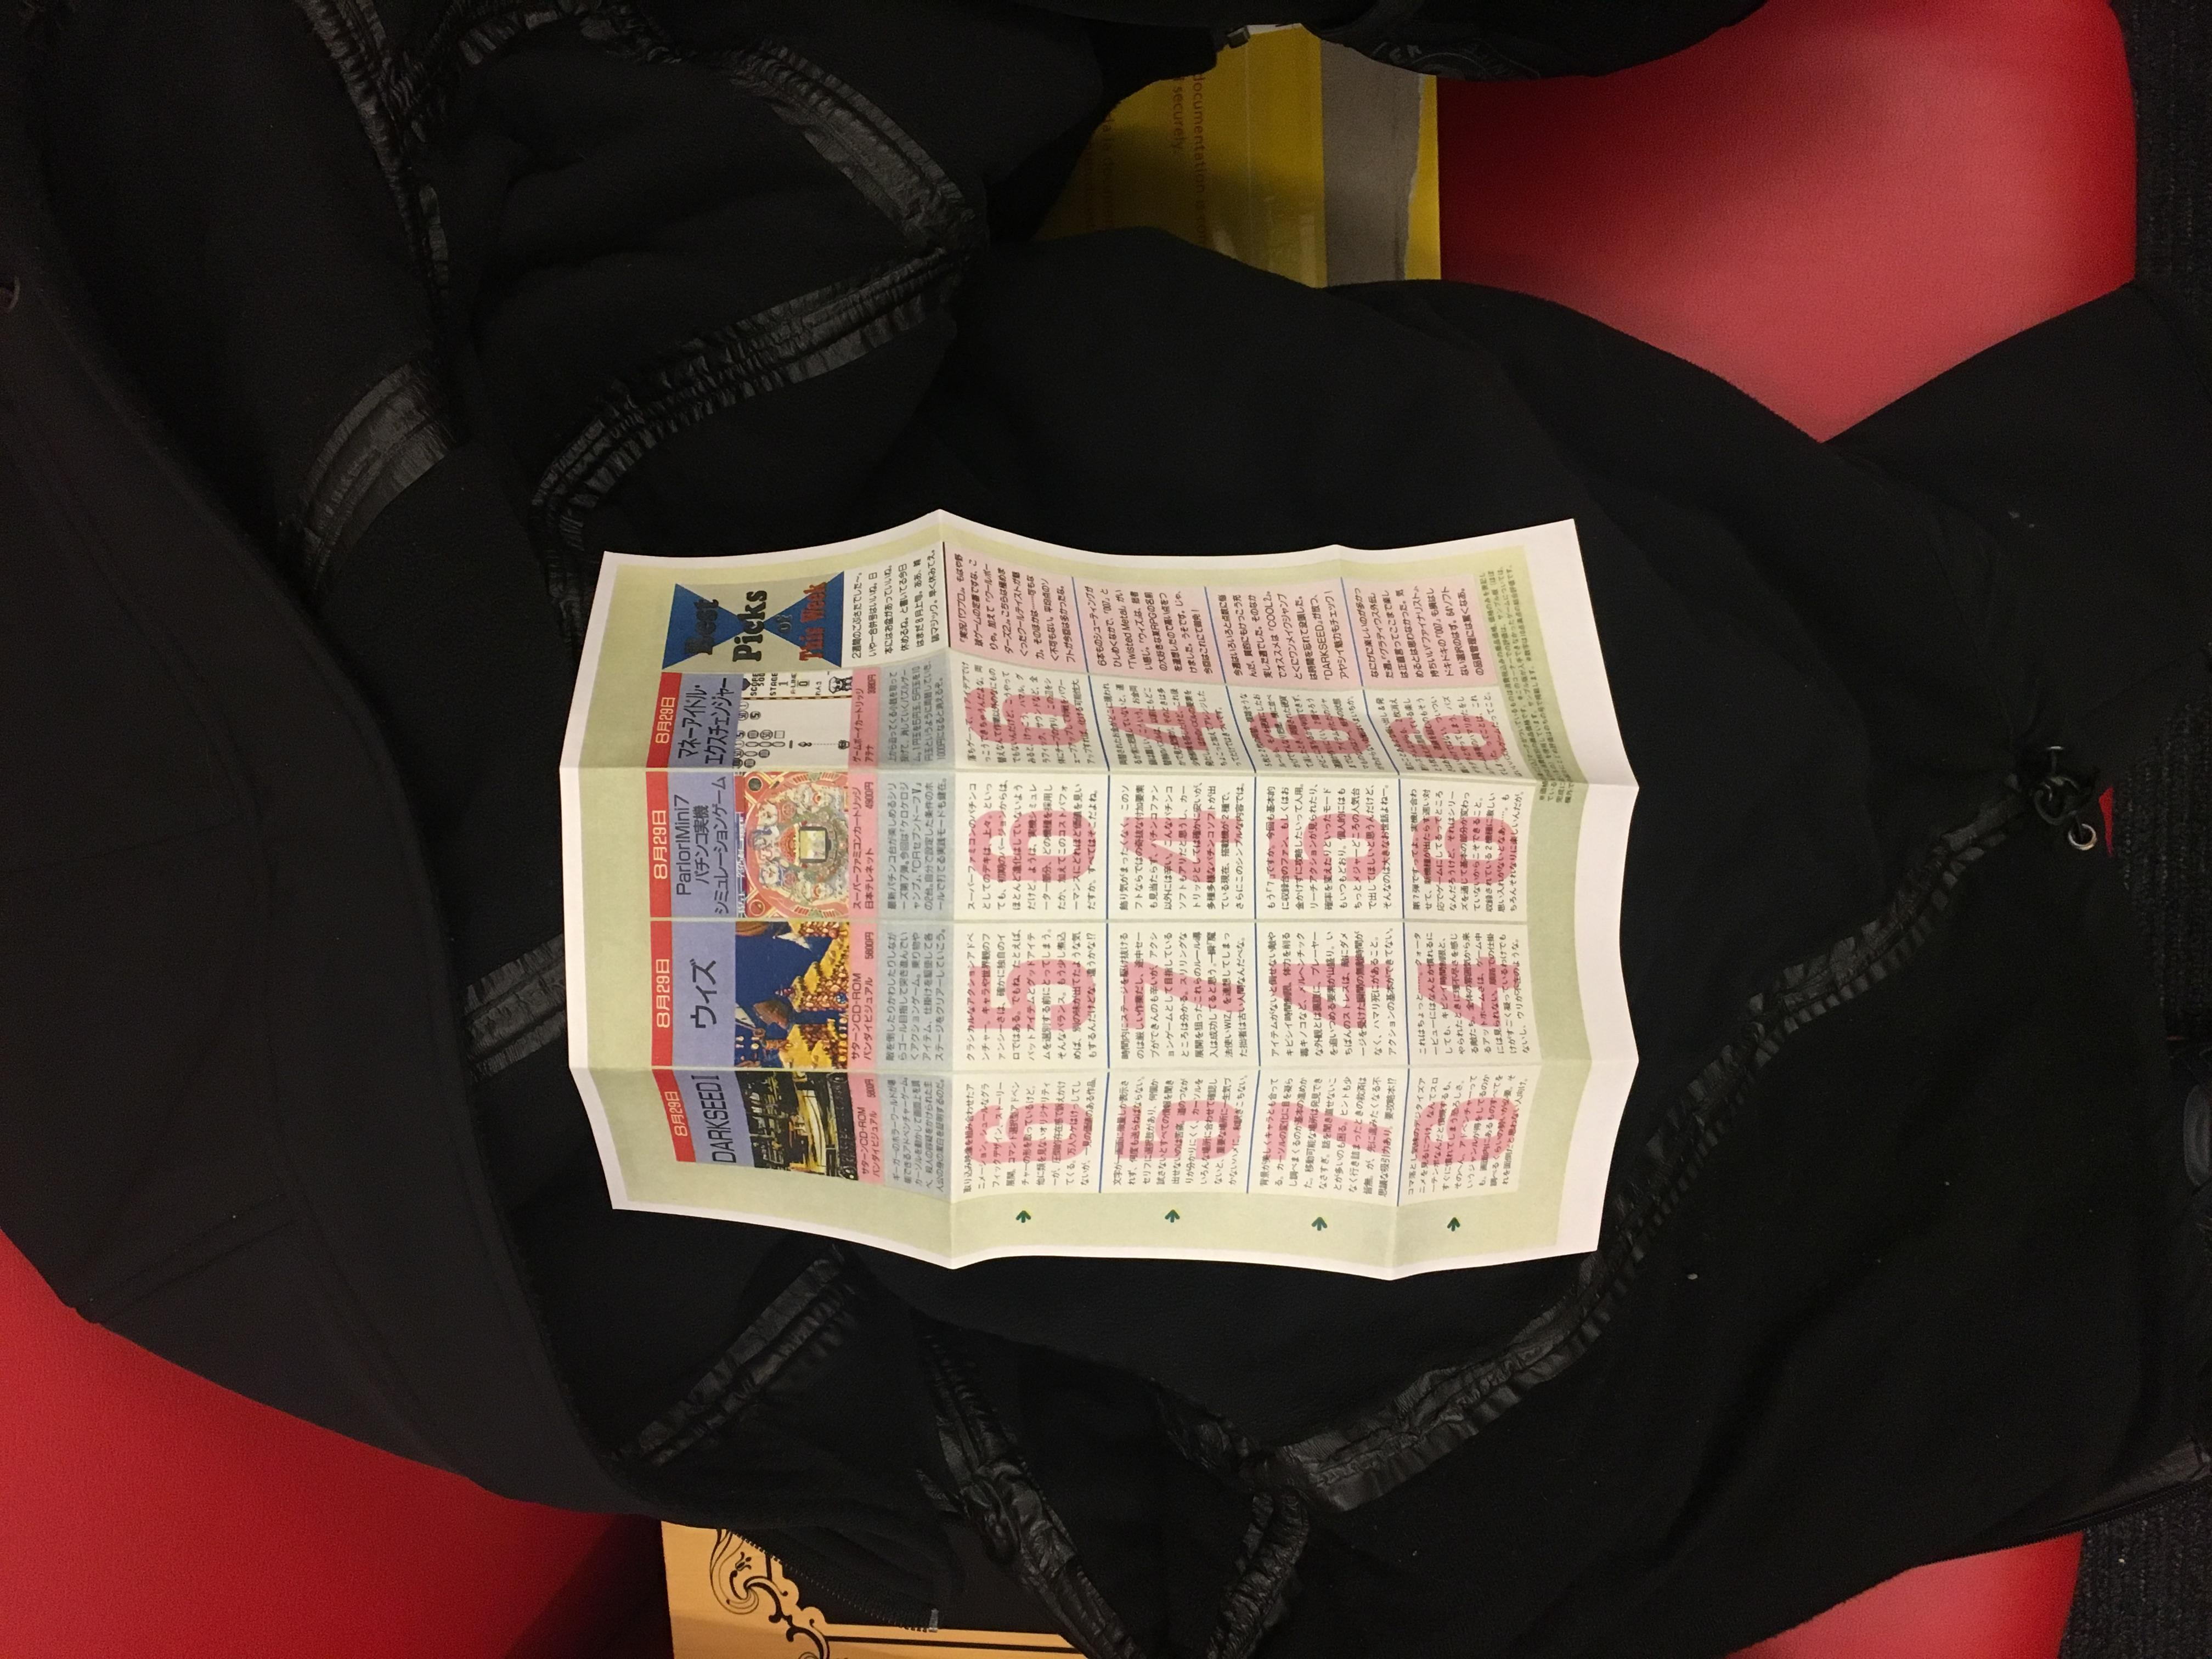paper: (402, 319, 1777, 1438)
